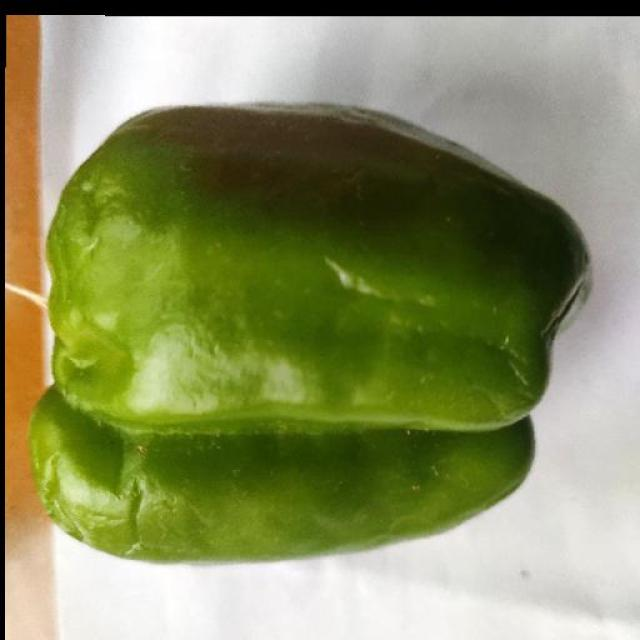Stale_Capsicum: (81, 119, 508, 511)
